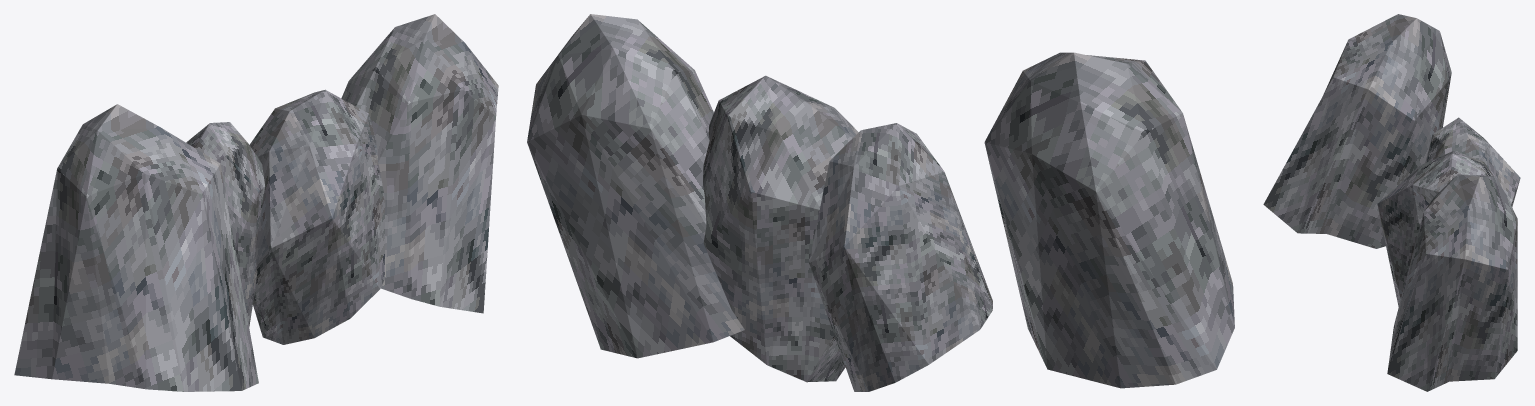
The model's file is lod_rockgp2_01.obj.
3 renders of one model, left to right at view 1: azimuth 30°, elevation 25°; view 2: azimuth 150°, elevation 25°; view 3: azimuth 270°, elevation 25°, orthographic. The views are drawn at different scales.
Parts seen in each view (by area): view 1: lod_rockgp2_01; view 2: lod_rockgp2_01; view 3: lod_rockgp2_01.
Boxes of the visible parts, <box> form: lod_rockgp2_01: <box>14,14,498,391</box>; lod_rockgp2_01: <box>527,14,1234,391</box>; lod_rockgp2_01: <box>1263,14,1520,391</box>.
Size of the model in its own units: 36.72 by 19.77 by 19.82.
Materials: 2 (2 with a texture image).
